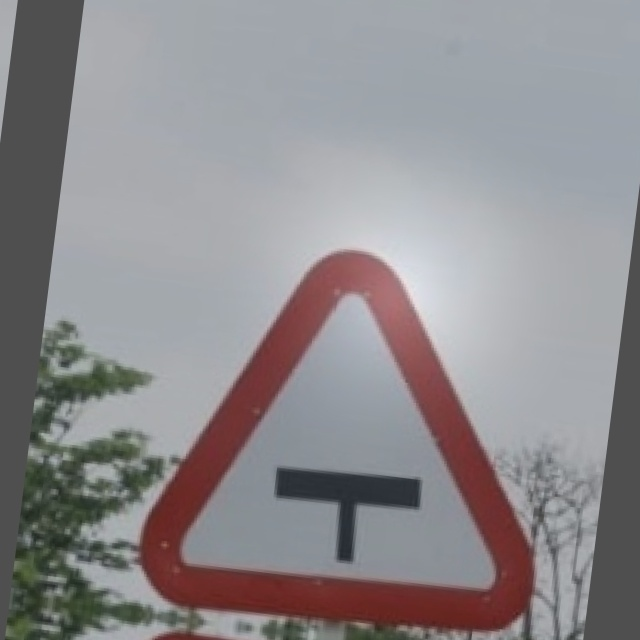T_Intersection: (143, 231, 570, 633)
